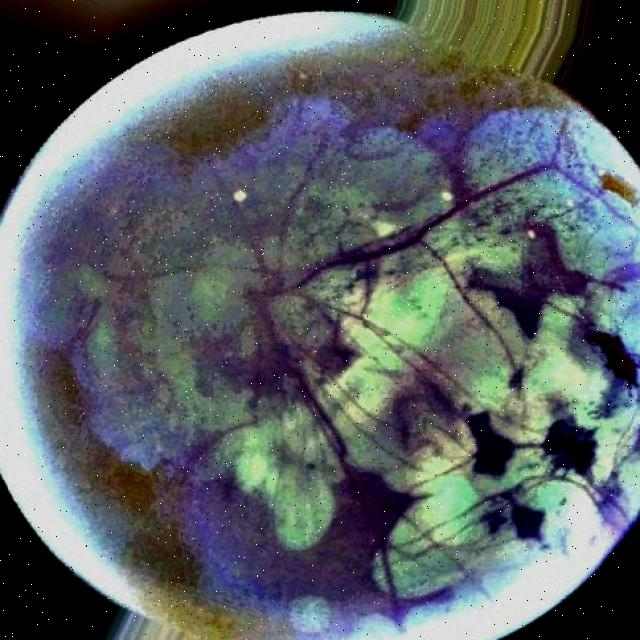Macula: (465, 418, 607, 475)
Nerves: (262, 122, 633, 295), (261, 305, 397, 613), (107, 120, 330, 285)
Optic Disk: (202, 201, 369, 402)
